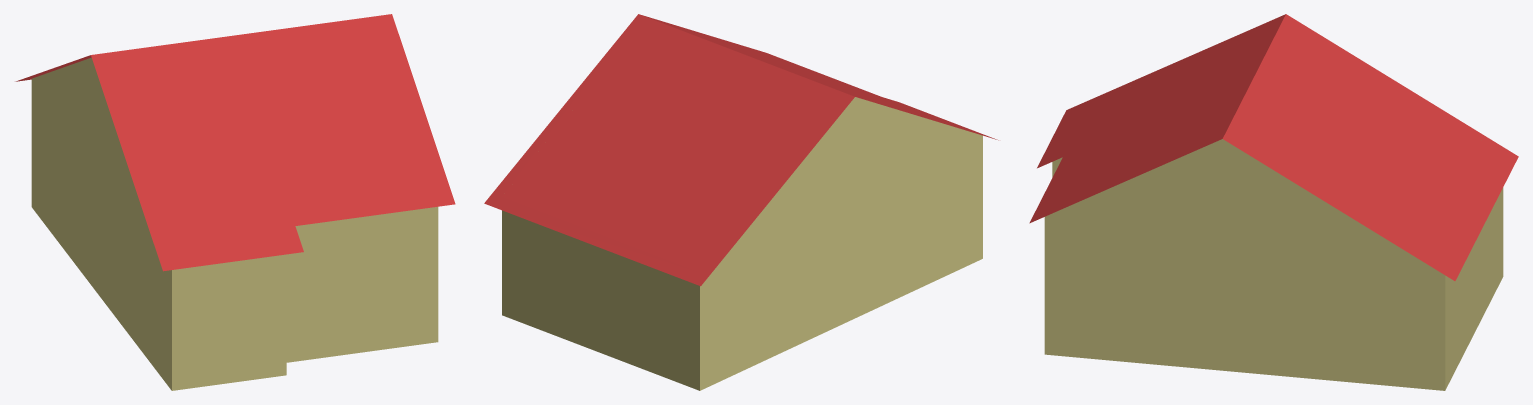
3 renders of one model, left to right at view 1: azimuth 30°, elevation 25°; view 2: azimuth 150°, elevation 25°; view 3: azimuth 270°, elevation 25°, orthographic. The views are drawn at different scales.
Bounding box in the file's own units: 22.38 × 27.89 × 14.93.
